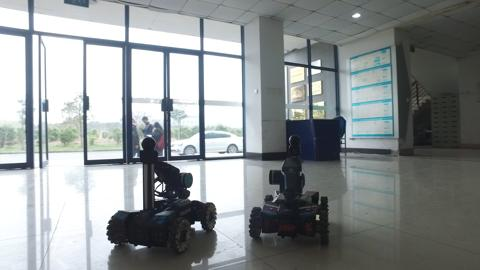chariot: (106, 136, 220, 254), (246, 131, 328, 239)
